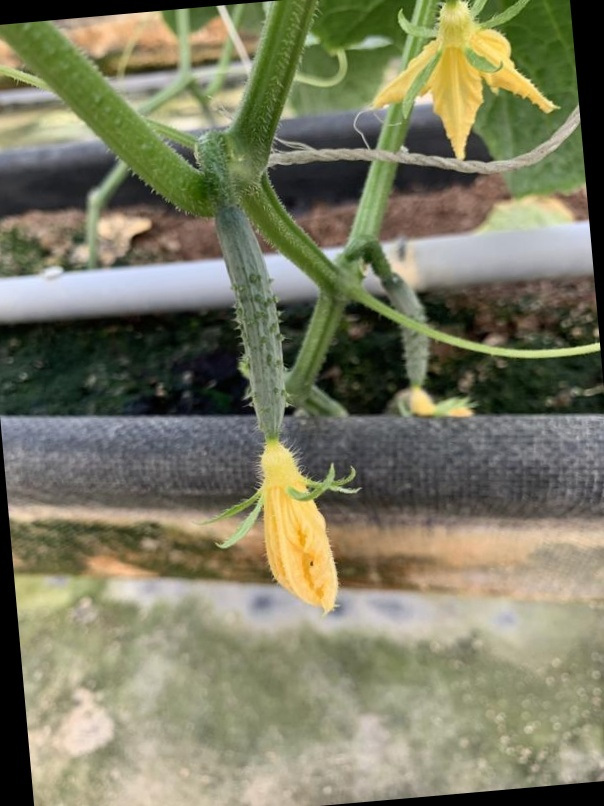bear: (199, 202, 356, 615)
